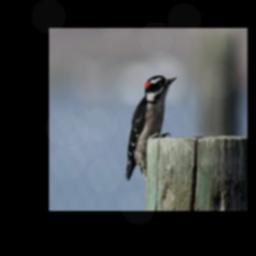Woodpecker: (125, 74, 178, 179)
